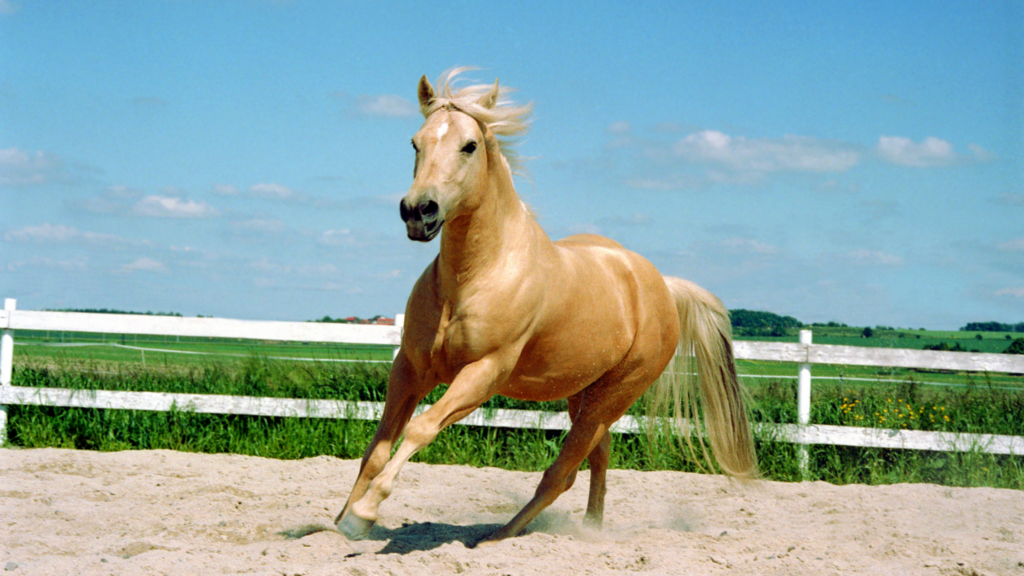horse: (307, 72, 774, 576)
